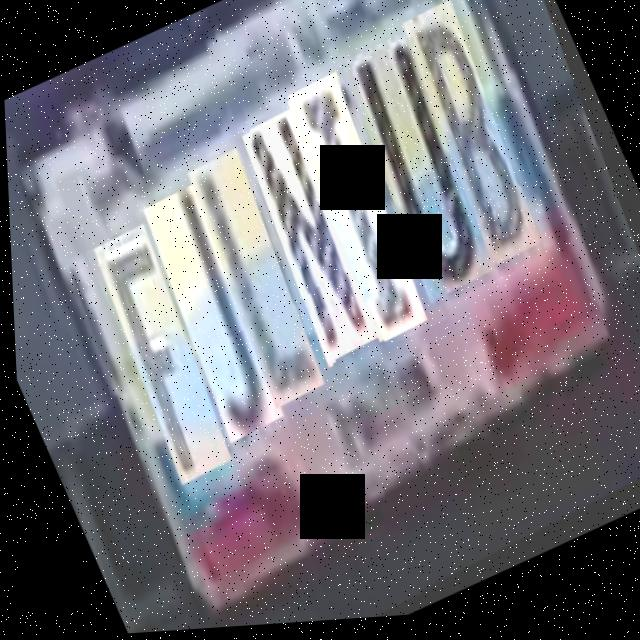B: (395, 6, 559, 282)
F: (82, 221, 245, 491)
I: (279, 76, 446, 357)
J: (132, 181, 298, 450)
L: (177, 147, 339, 418)
N: (233, 111, 396, 377)
U: (334, 36, 514, 318)
